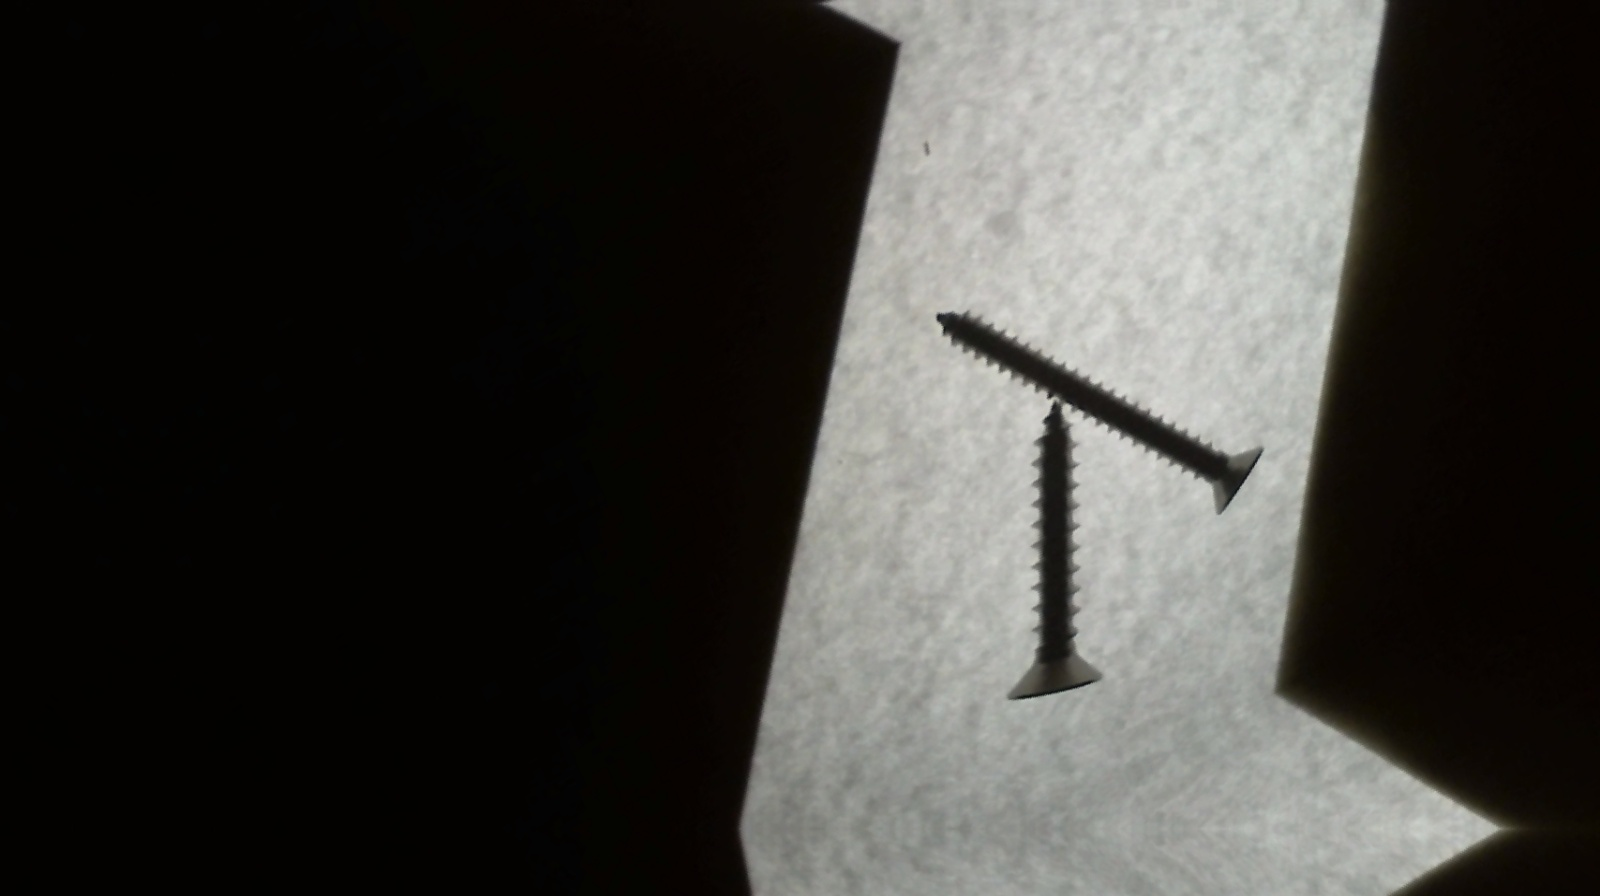S001: (920, 394, 1163, 731)
S002: (932, 186, 1279, 616)
